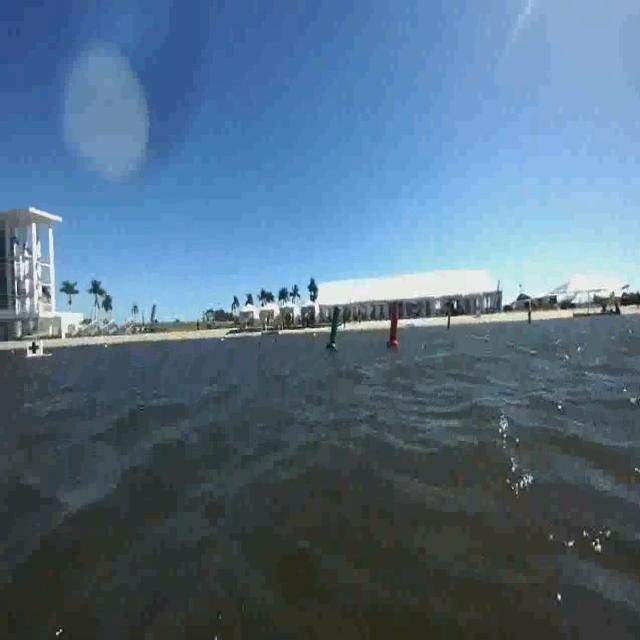green-column-buoy: (327, 304, 344, 363)
red-column-buoy: (385, 296, 408, 361)
